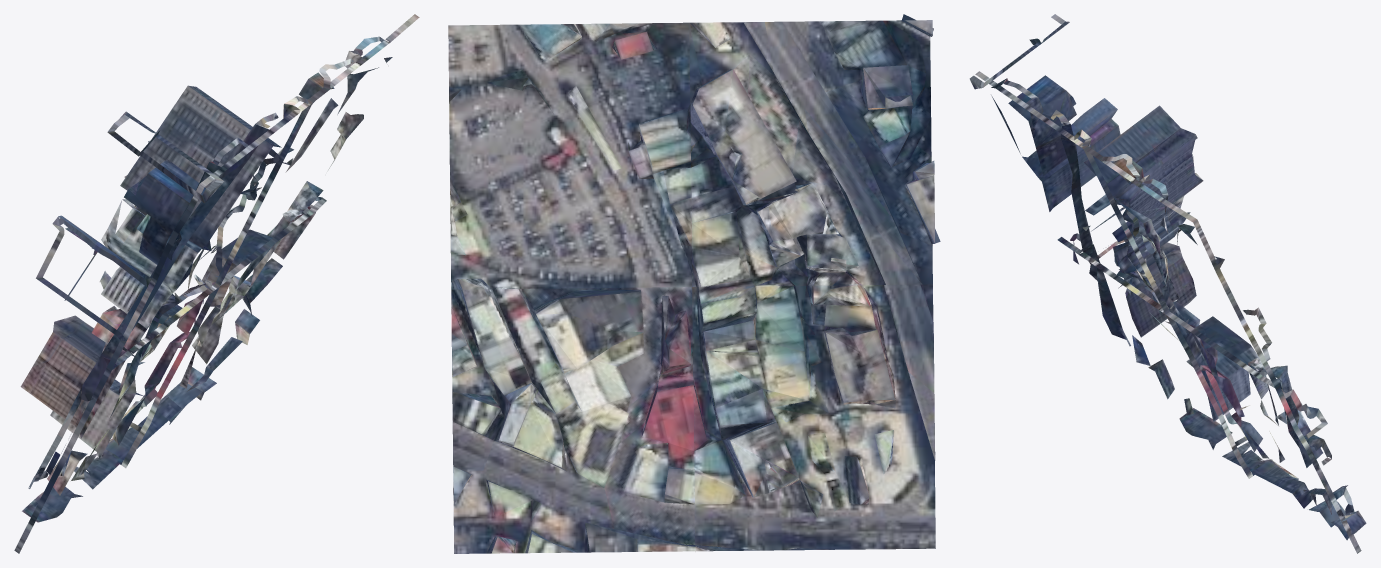
3 renders of one model, left to right at view 1: azimuth 30°, elevation 25°; view 2: azimuth 150°, elevation 25°; view 3: azimuth 270°, elevation 25°, orthographic. The views are drawn at different scales.
Size of the model in its own units: 305 by 306 by 266.
Materials: 2 (2 with a texture image).
